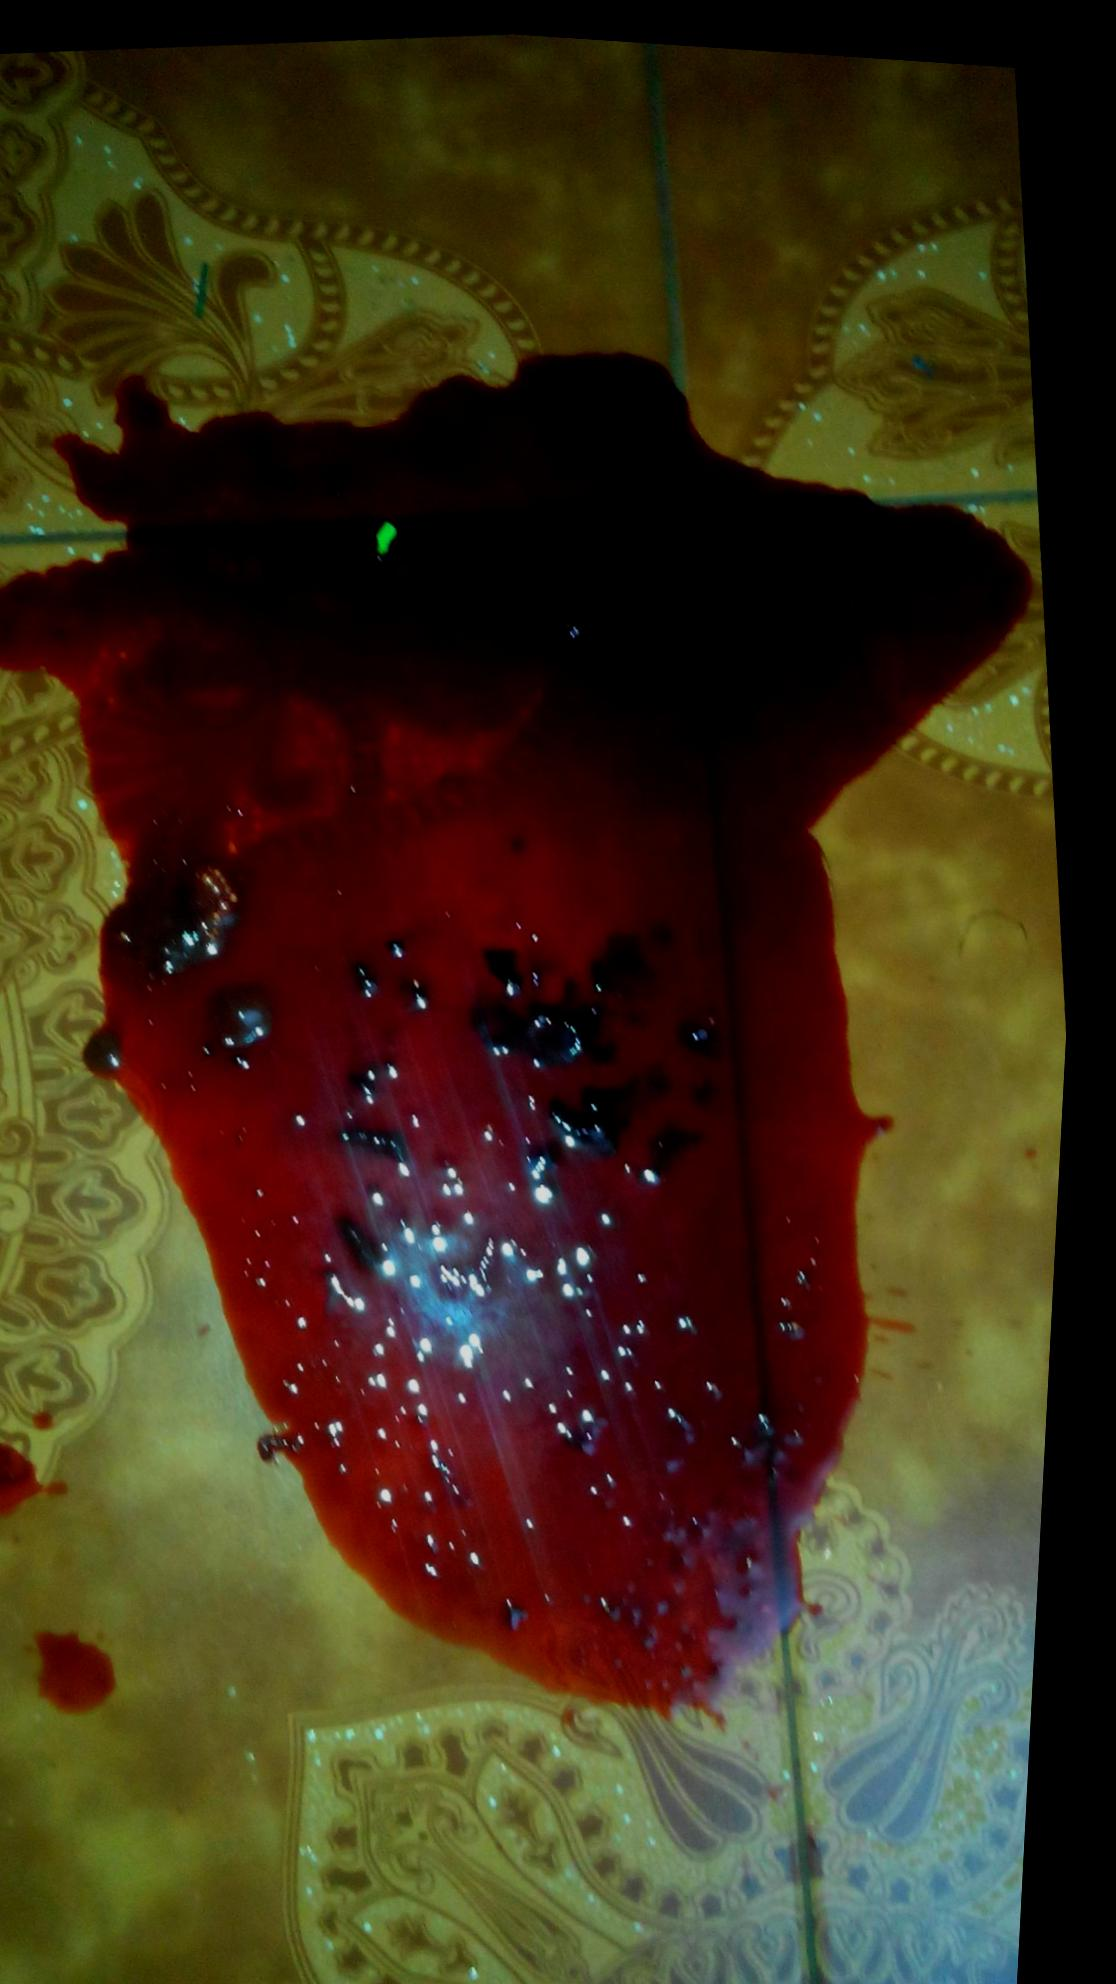Fire: (0, 343, 1033, 1702), (49, 1632, 129, 1711), (0, 1440, 59, 1518)
